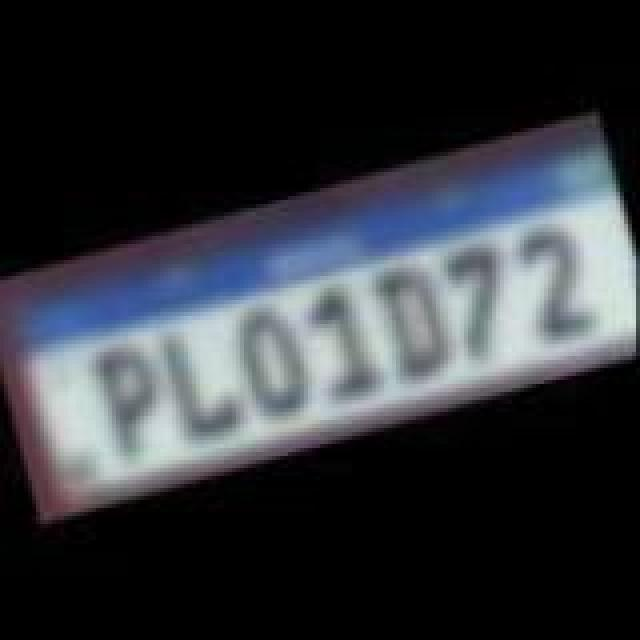1: (288, 276, 388, 404)
2: (496, 210, 604, 346)
7: (428, 234, 528, 358)
D: (362, 250, 458, 386)
L: (158, 318, 258, 450)
O: (224, 294, 324, 426)
P: (86, 338, 178, 466)
